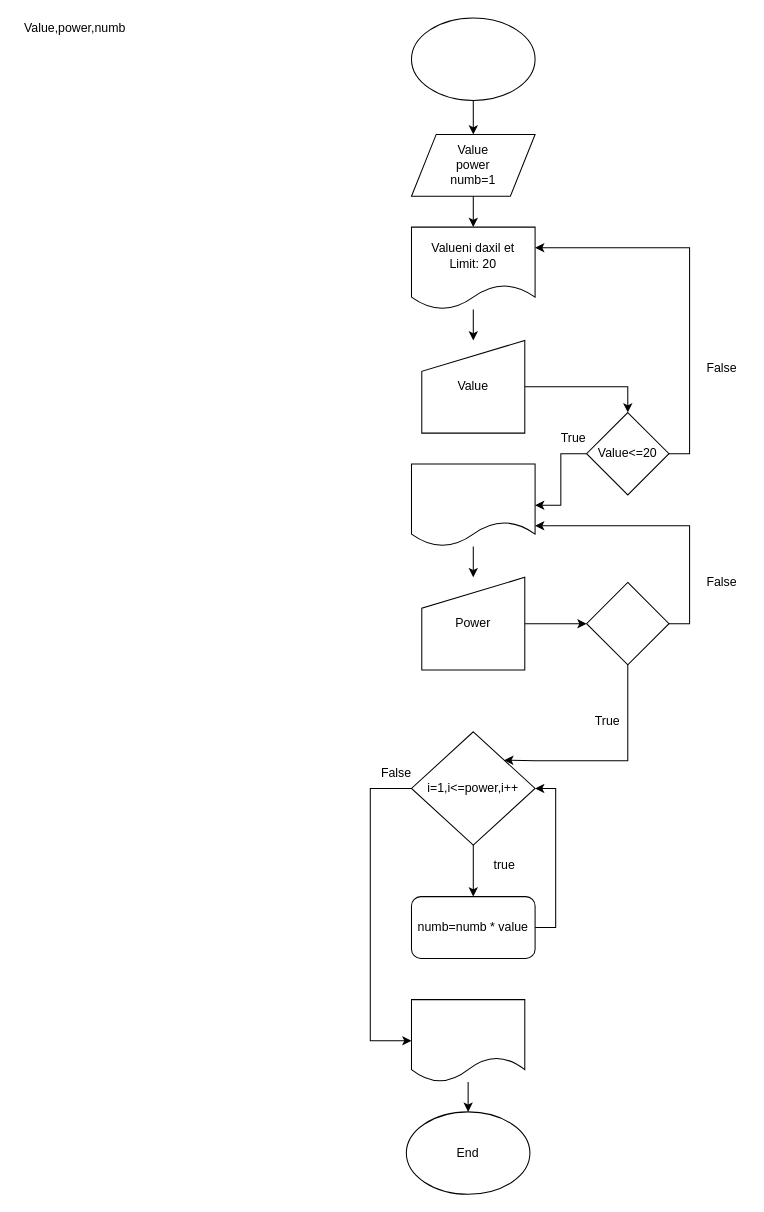
This 764x1212 diagram has some shape labels left out. The centre of each missing label's shape, as x and y in pixels:
Power<=5: (627,623)
Poweri daxil et Limit : 5: (472,504)
Start: (472,58)
Value" ^ "power =numb: (467,1040)
